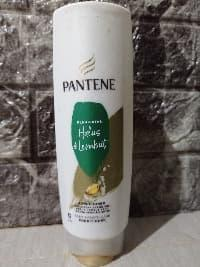Plastik: (49, 2, 138, 264)
